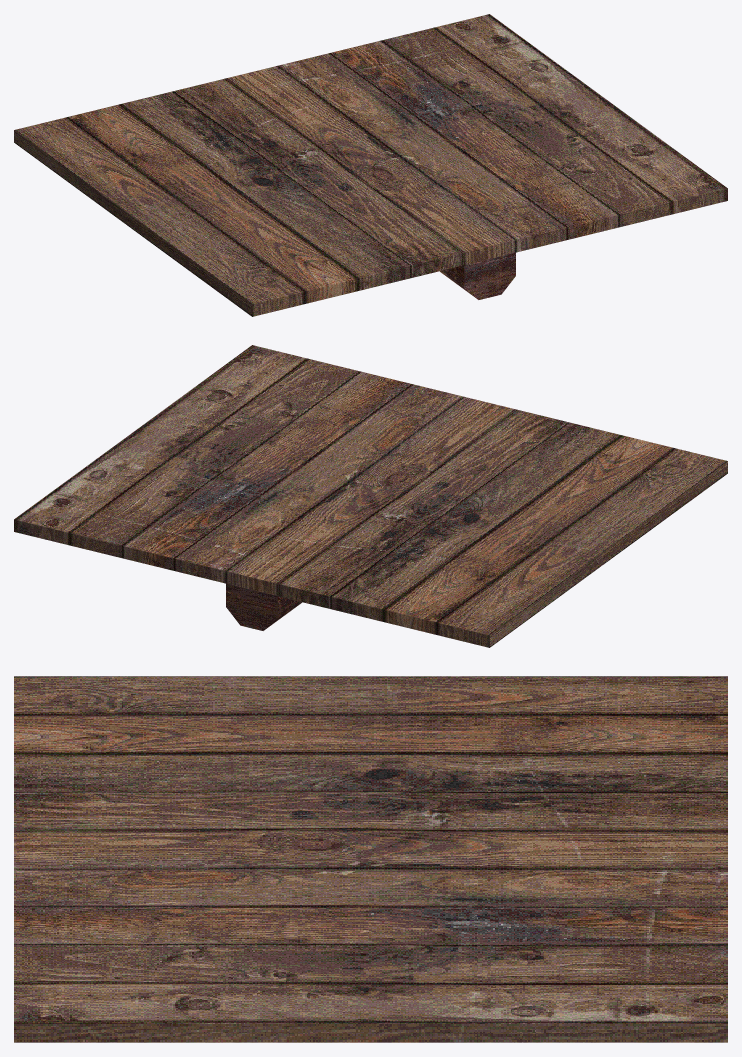
The model's file is ceiling-beamN.glb.
The picture shows the model from 3 angles, top to bottom: view 1: azimuth 30°, elevation 25°; view 2: azimuth 150°, elevation 25°; view 3: azimuth 270°, elevation 25°; orthographic projection. The views are drawn at different scales.
Visible parts, largest first — view 1: ceiling-beamN.001; view 2: ceiling-beamN.001; view 3: ceiling-beamN.001.
Boxes of the visible parts, left/top/right/bottom form: ceiling-beamN.001: left=14, top=14, right=727, bottom=316; ceiling-beamN.001: left=14, top=345, right=727, bottom=647; ceiling-beamN.001: left=14, top=676, right=727, bottom=1042.
Size of the model in its own units: 2 by 0.2046 by 1.74.
2 materials, 2 textured.
